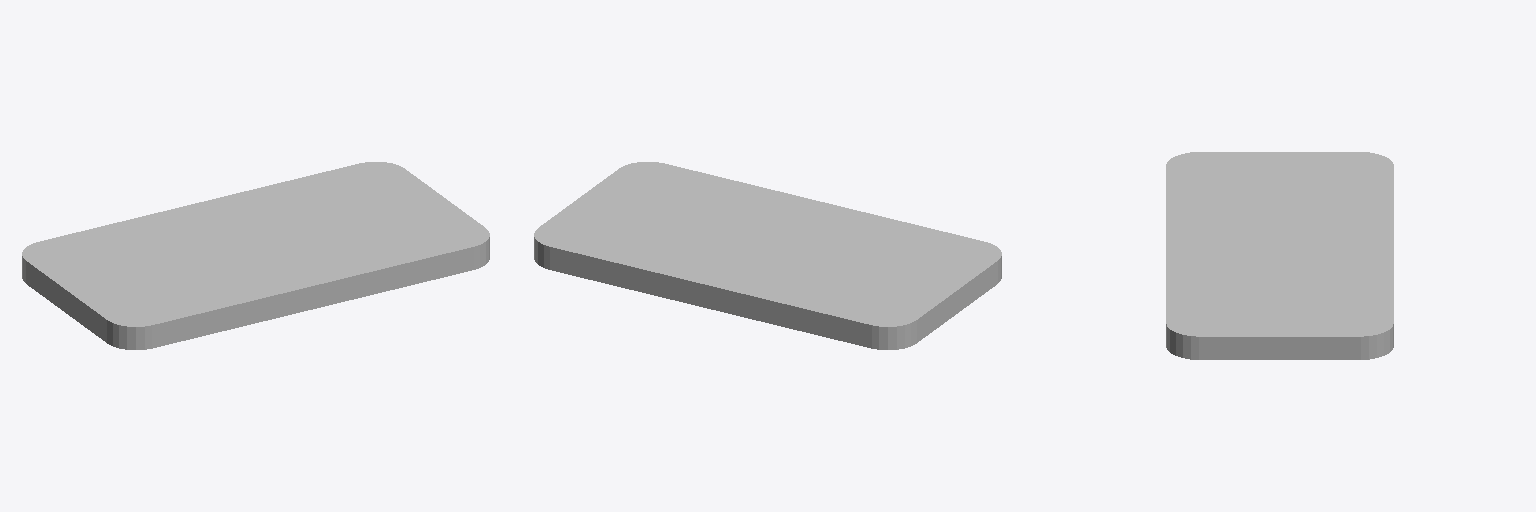
The model's file is original-8.obj.
The picture shows the model from 3 angles: view 1: azimuth 30°, elevation 25°; view 2: azimuth 150°, elevation 25°; view 3: azimuth 270°, elevation 25°; orthographic projection.
Visible parts, largest first — view 1: mesh7/mesh7-geometry#mesh7-geometry; view 2: mesh7/mesh7-geometry#mesh7-geometry; view 3: mesh7/mesh7-geometry#mesh7-geometry.
Boxes of the visible parts, <box> form: mesh7/mesh7-geometry#mesh7-geometry: <box>22,162,489,349</box>; mesh7/mesh7-geometry#mesh7-geometry: <box>534,162,1001,349</box>; mesh7/mesh7-geometry#mesh7-geometry: <box>1166,152,1393,359</box>.
Size of the model in its own units: 0.1087 by 0.0064 by 0.0568.